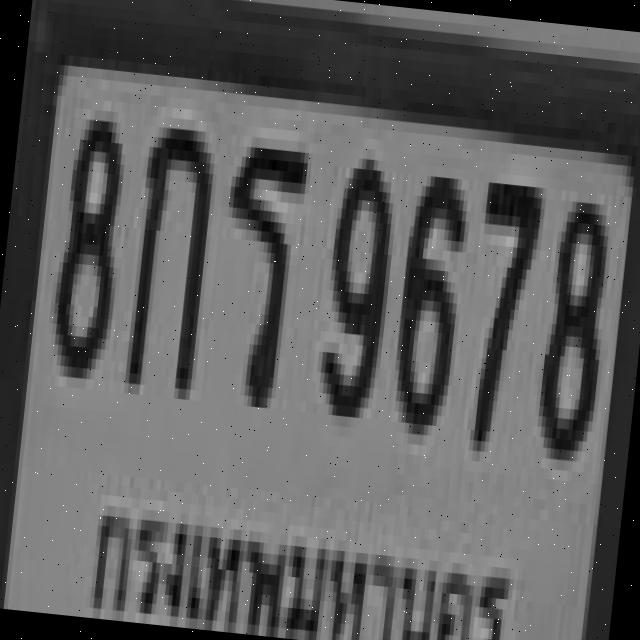10GorGai: (120, 115, 214, 389)
44RorRuea: (205, 134, 305, 398)
6: (386, 164, 466, 426)
7: (458, 171, 540, 444)
8: (44, 107, 126, 369), (531, 189, 612, 452)
9: (313, 146, 398, 408)
Bangkok: (86, 484, 527, 640)
